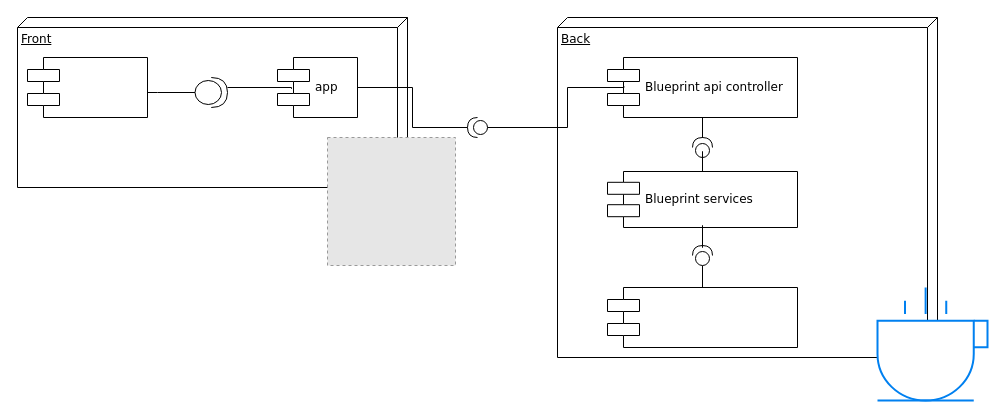
Some shapes in this 1006 by 419 pixel diagram are drawn without their labels. Grey dashed boxes stand in for pictures. The centre of each missing label's shape, as x and y in pixels:
"apiclient" belongs at pixel 87 87.
"Blueprint Persistence" belongs at pixel 702 317.
